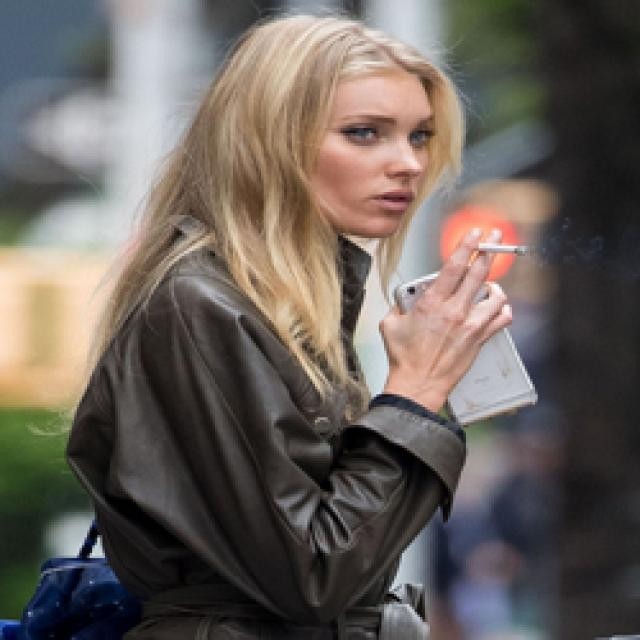Smooking: (470, 234, 540, 268)
